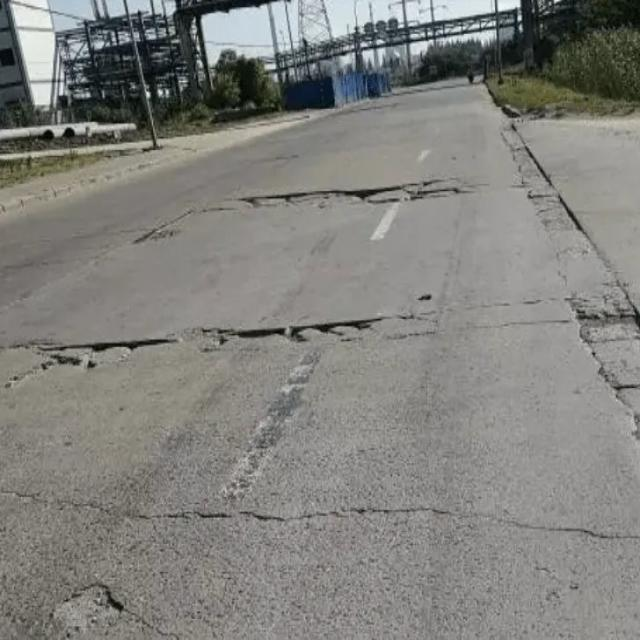Pothole: (498, 126, 639, 410), (9, 311, 434, 368), (235, 177, 481, 207)
